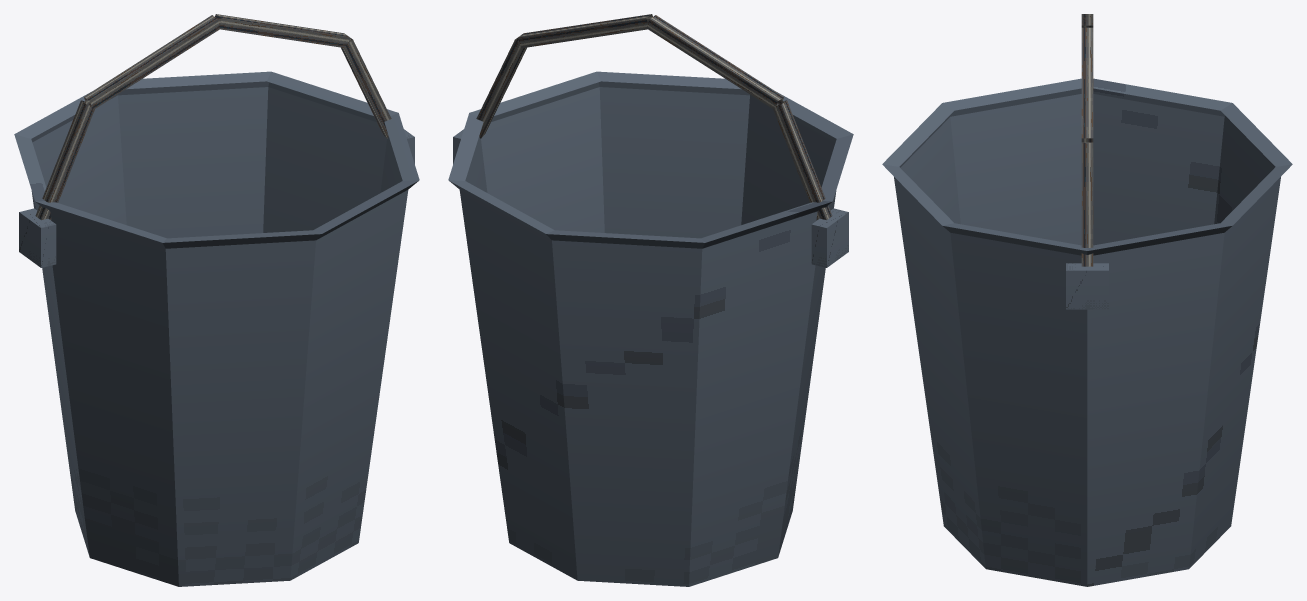
Rendered from prop_bucket-0.glb.
The picture shows the model from 3 angles, left to right: view 1: azimuth 30°, elevation 25°; view 2: azimuth 150°, elevation 25°; view 3: azimuth 270°, elevation 25°; orthographic projection. The views are drawn at different scales.
Visible parts, largest first — view 1: prop_bucket-0; view 2: prop_bucket-0; view 3: prop_bucket-0.
Boxes of the visible parts, x1=… form: prop_bucket-0: x1=14, y1=14, x2=419, y2=586; prop_bucket-0: x1=448, y1=14, x2=853, y2=586; prop_bucket-0: x1=882, y1=14, x2=1292, y2=586.
Bounding box in the file's own units: 0.294 × 0.3837 × 0.286.
2 materials, 2 textured.
